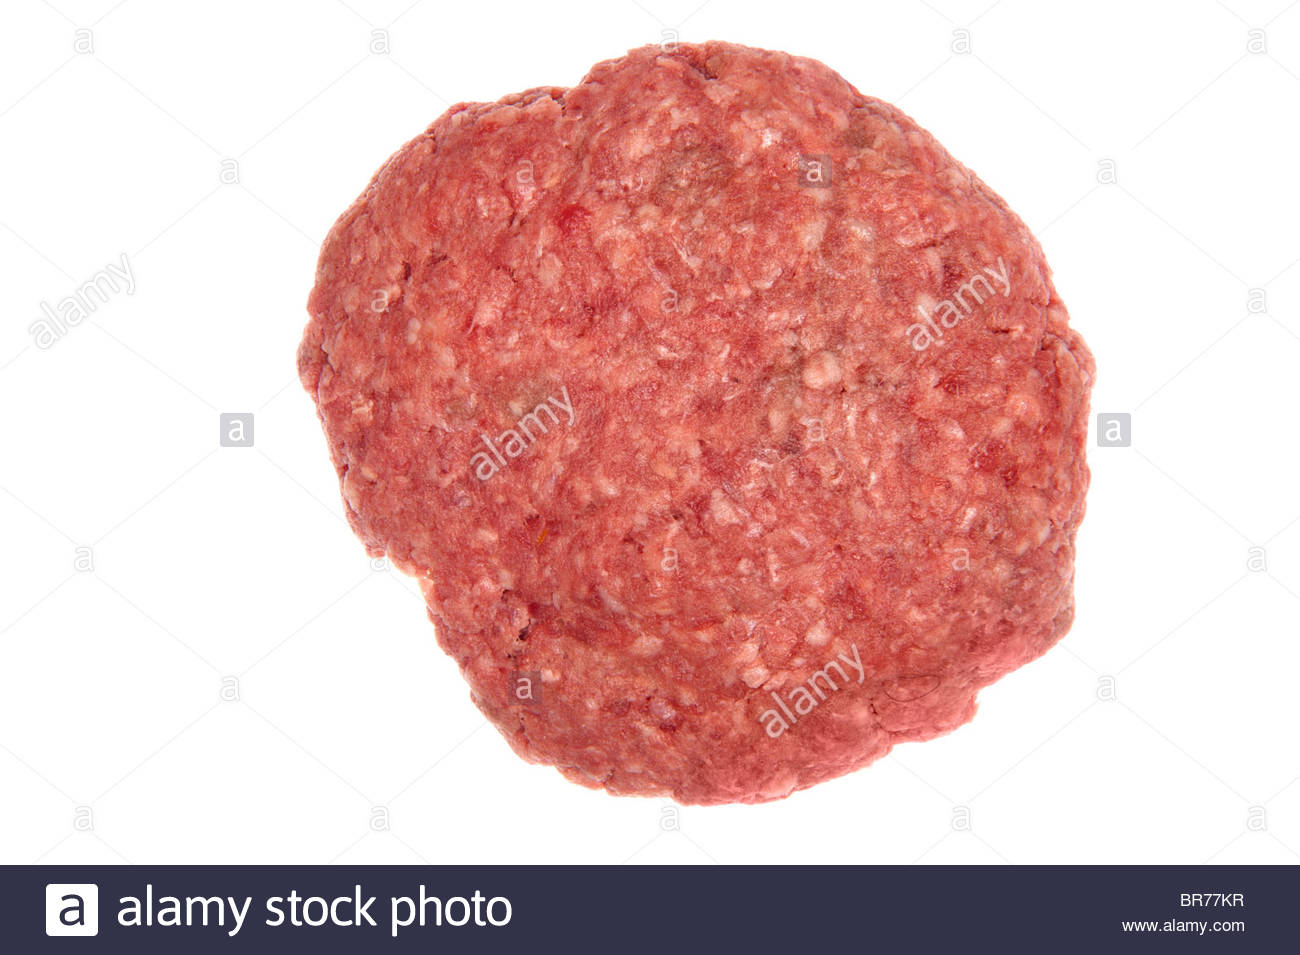ground_beef: (256, 40, 1094, 795)
